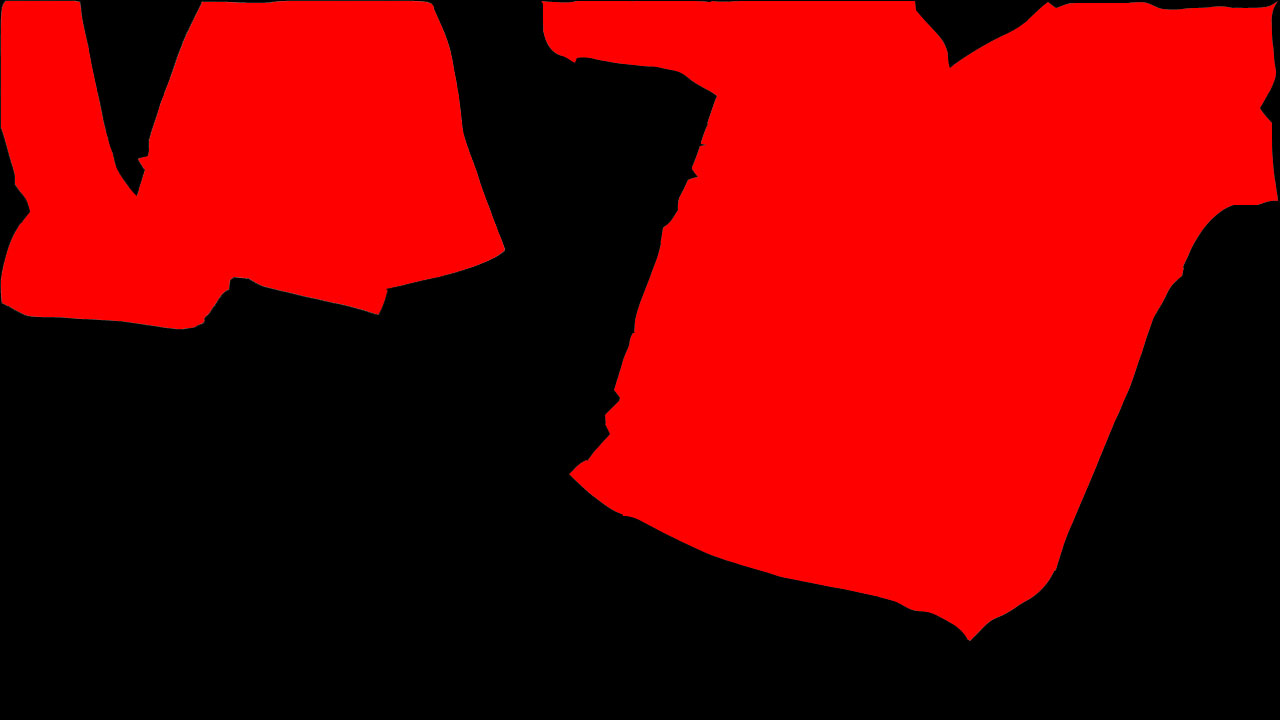uniforme_ifmt: (539, 2, 1280, 644), (2, 3, 508, 344)
